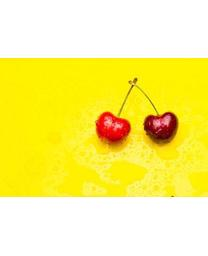cherry: (96, 111, 131, 143), (143, 112, 178, 140)
